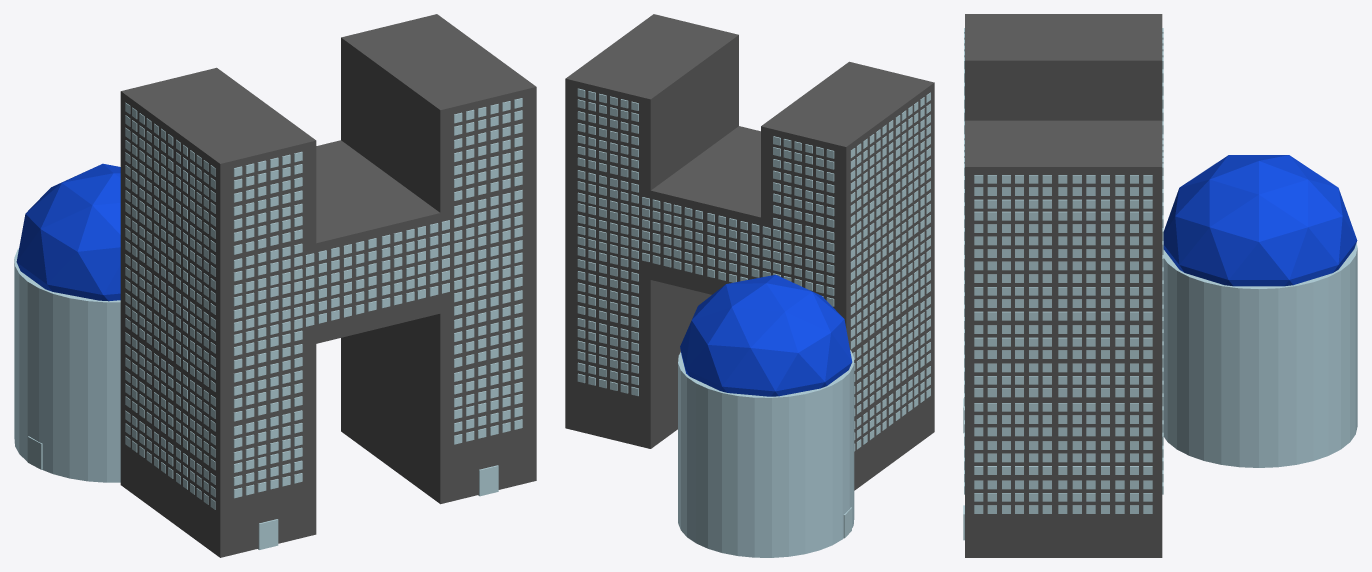
Rendered from business1.fbx.
The picture shows the model from 3 angles, left to right: view 1: azimuth 30°, elevation 25°; view 2: azimuth 150°, elevation 25°; view 3: azimuth 270°, elevation 25°; orthographic projection. The views are drawn at different scales.
Visible parts, largest first — view 1: Cube.002, Cube.000, Cylinder, Icosphere; view 2: Cube.002, Cube.000, Cylinder, Icosphere; view 3: Cube.002, Cylinder, Cube.000, Icosphere.
Boxes of the visible parts, x1,y1,x2,y2 form: Cube.002: (120, 14, 536, 557); Cube.000: (27, 98, 522, 549); Cylinder: (14, 248, 120, 482); Icosphere: (16, 163, 120, 301); Cube.002: (565, 14, 934, 490); Cube.000: (577, 88, 930, 538); Cylinder: (678, 350, 854, 557); Icosphere: (680, 274, 852, 396); Cube.002: (965, 14, 1162, 557); Cylinder: (1163, 243, 1357, 467); Cube.000: (963, 28, 1163, 540); Icosphere: (1163, 155, 1357, 286).
Bounding box in the file's own units: 421 × 439 × 399.
